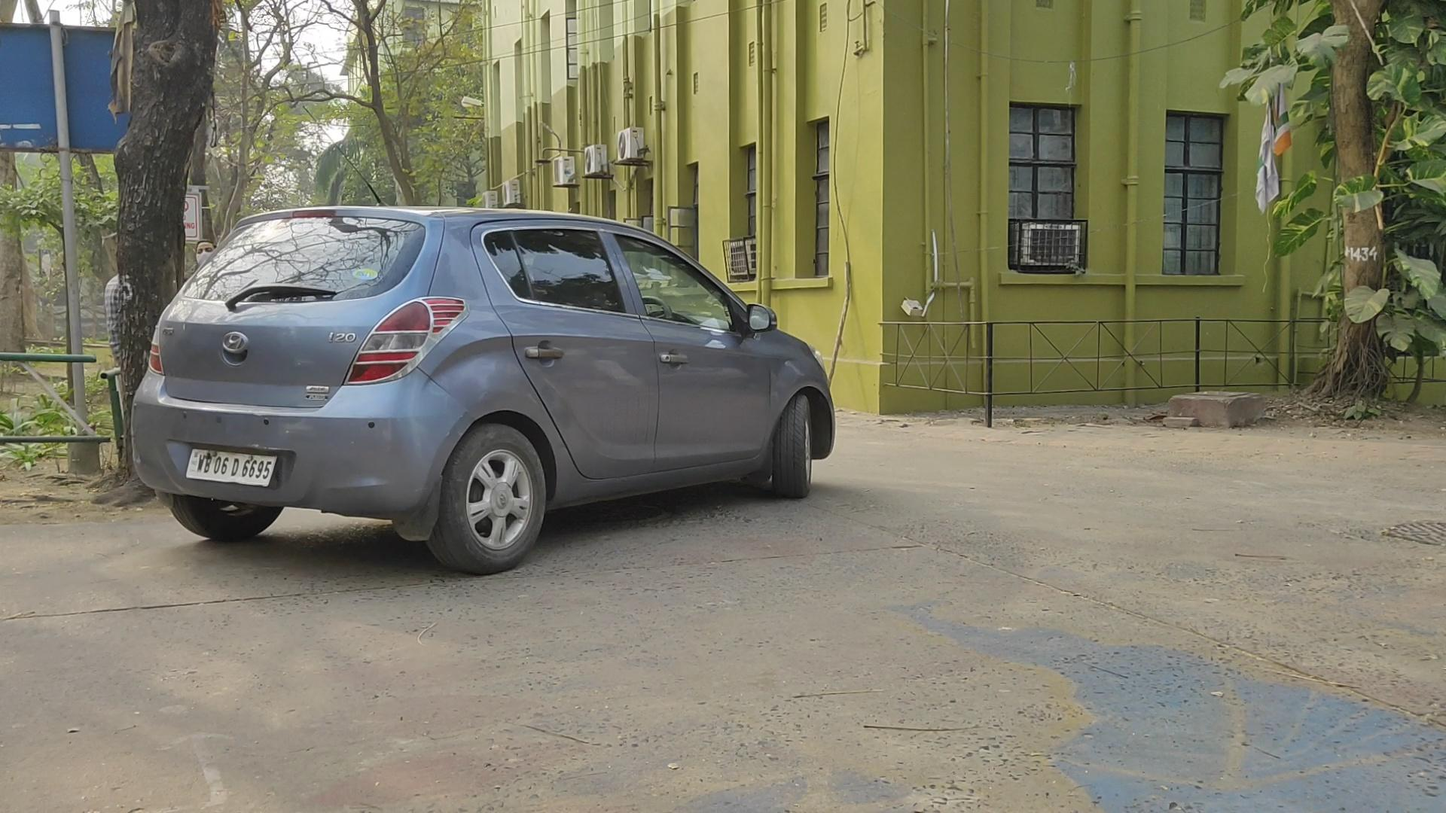car: (130, 206, 837, 574)
